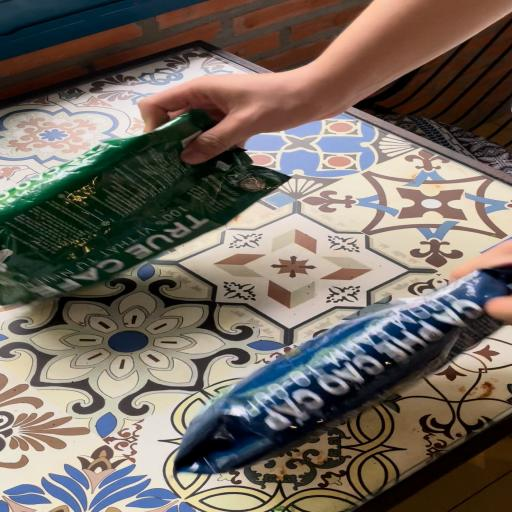cafe_hat: (175, 266, 512, 474)
cafe_xay: (0, 110, 288, 306)
